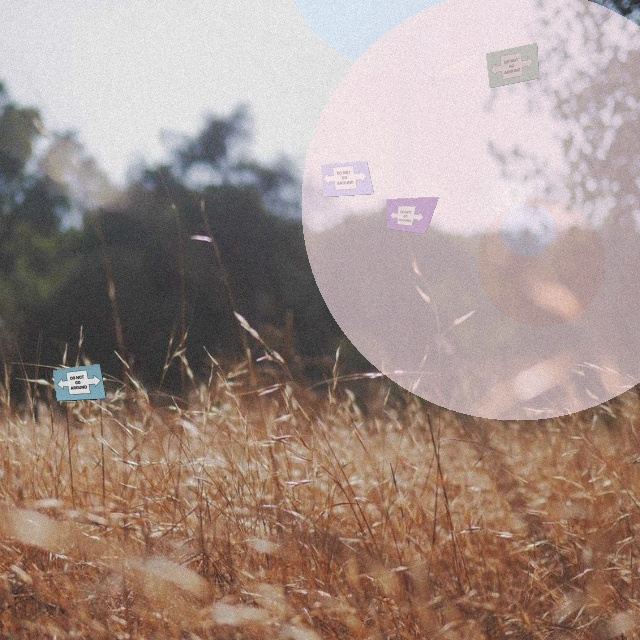DO_NOT_GO_AROUND: (322, 162, 369, 194), (489, 50, 534, 82), (55, 368, 103, 396), (390, 206, 427, 227)
